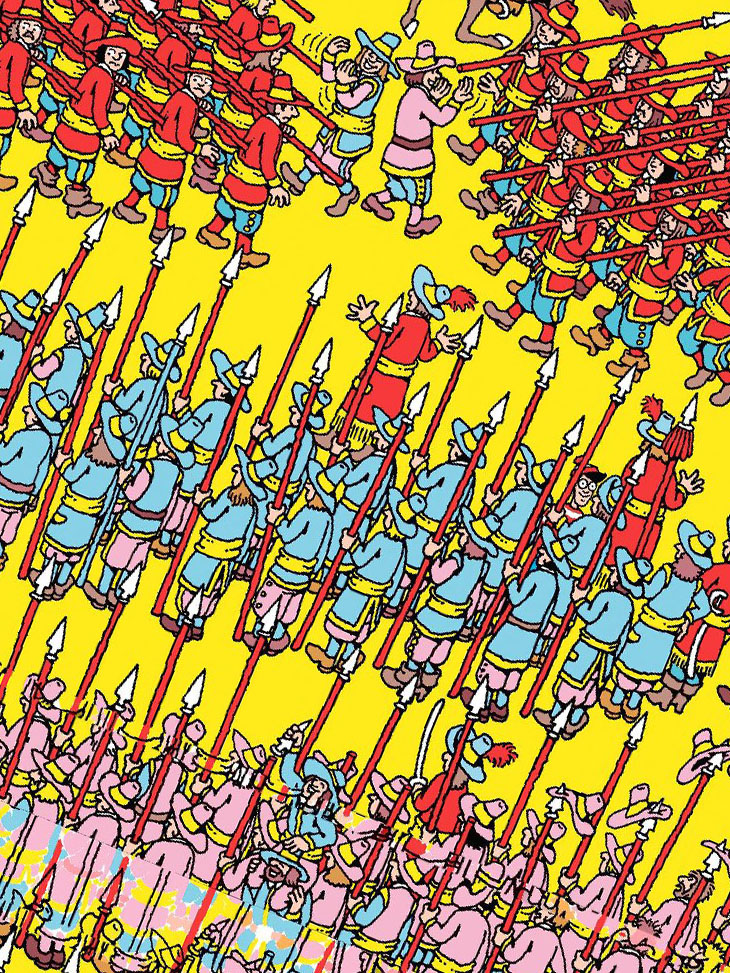waldo: (574, 452, 604, 511)
